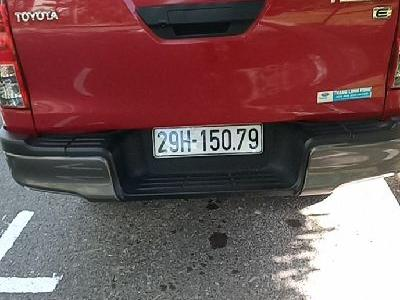lisence: (151, 123, 264, 159)
